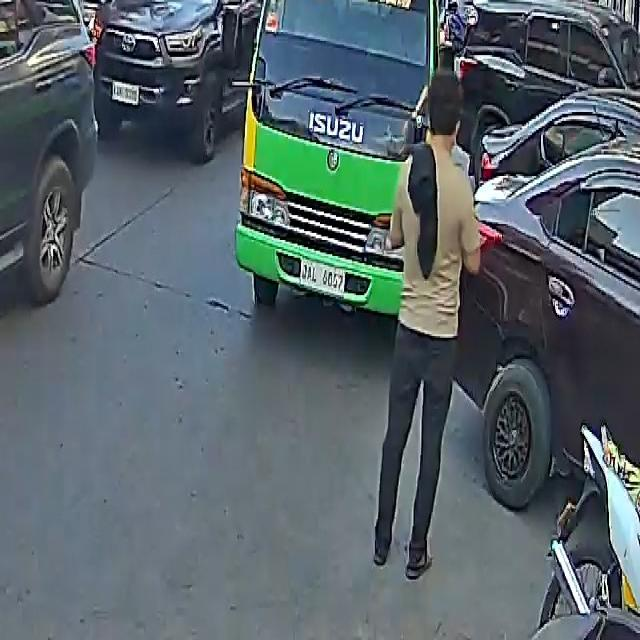car: (455, 43, 640, 537), (0, 0, 118, 457), (450, 0, 640, 167), (90, 0, 269, 160)
